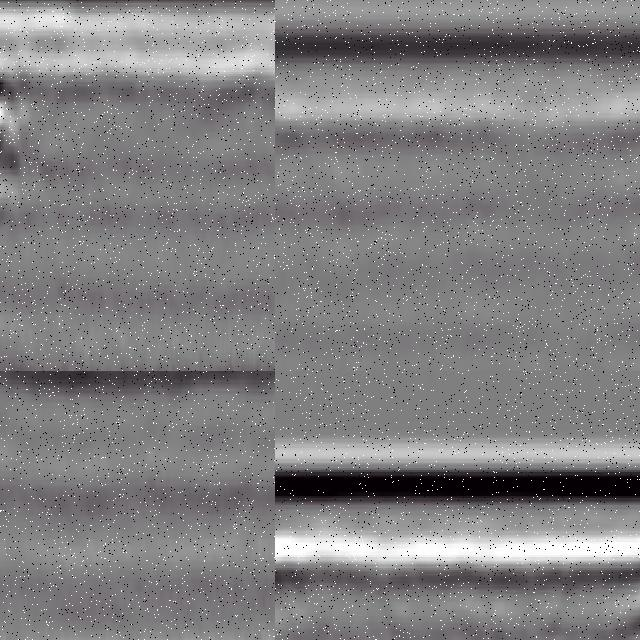loose: (1, 48, 137, 215)
